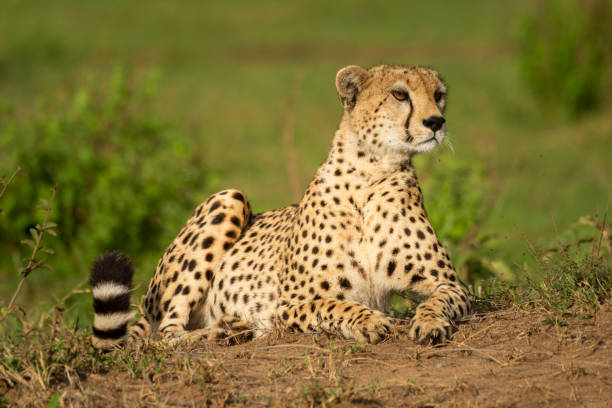cheetah: (325, 48, 461, 166)
